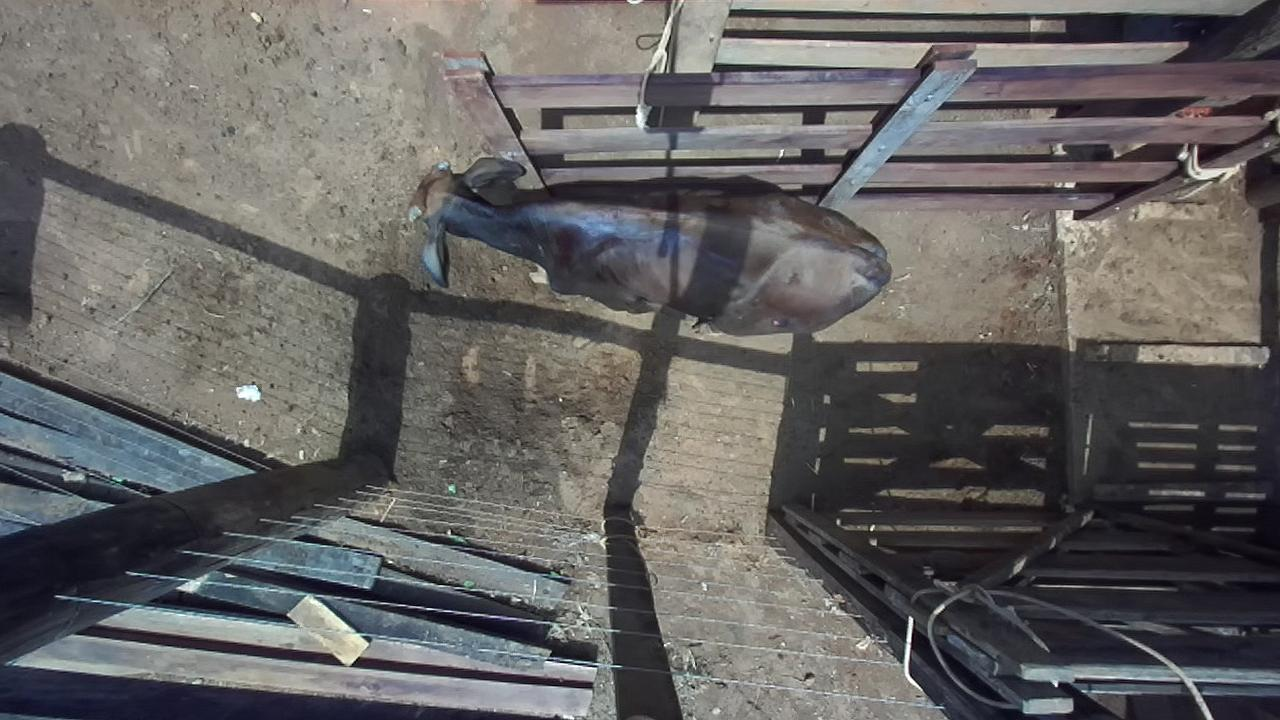cattle: (406, 154, 893, 338)
